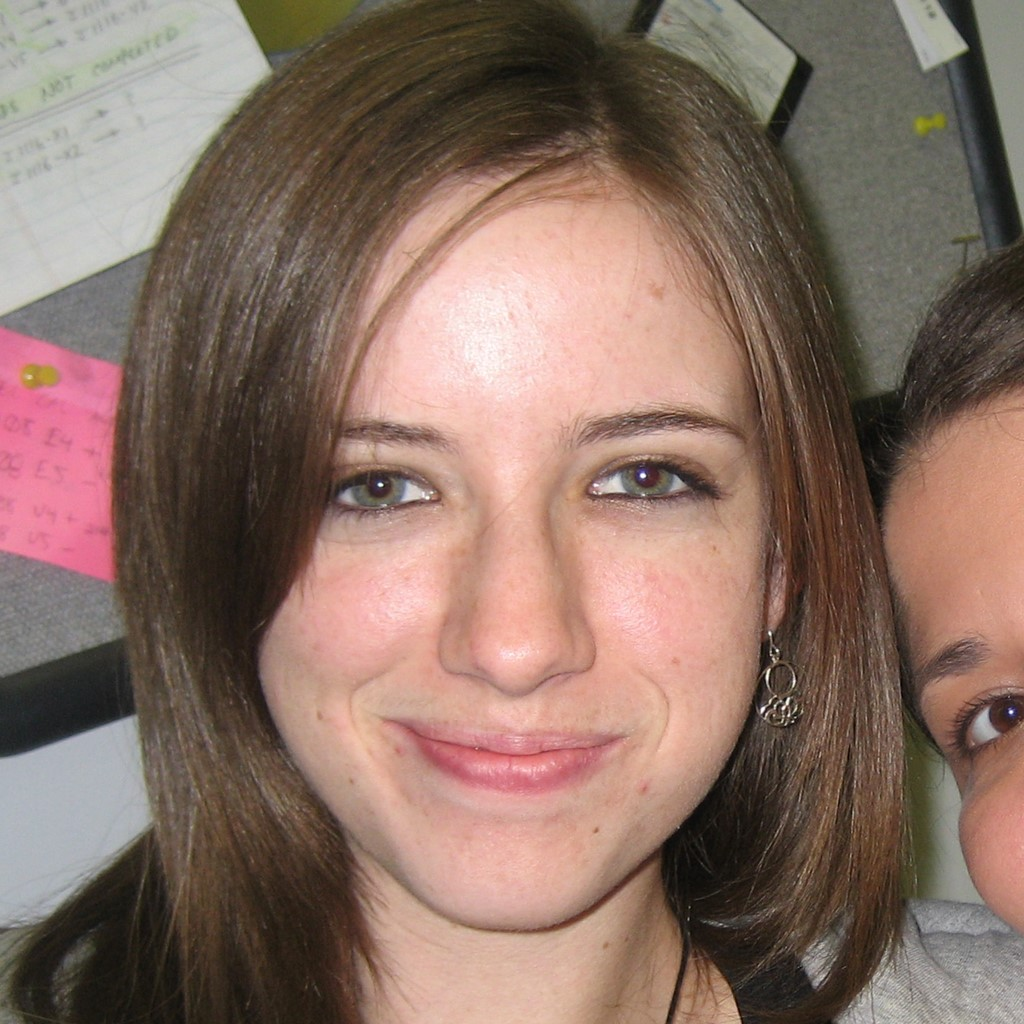sin_mascara: (257, 157, 806, 898)
